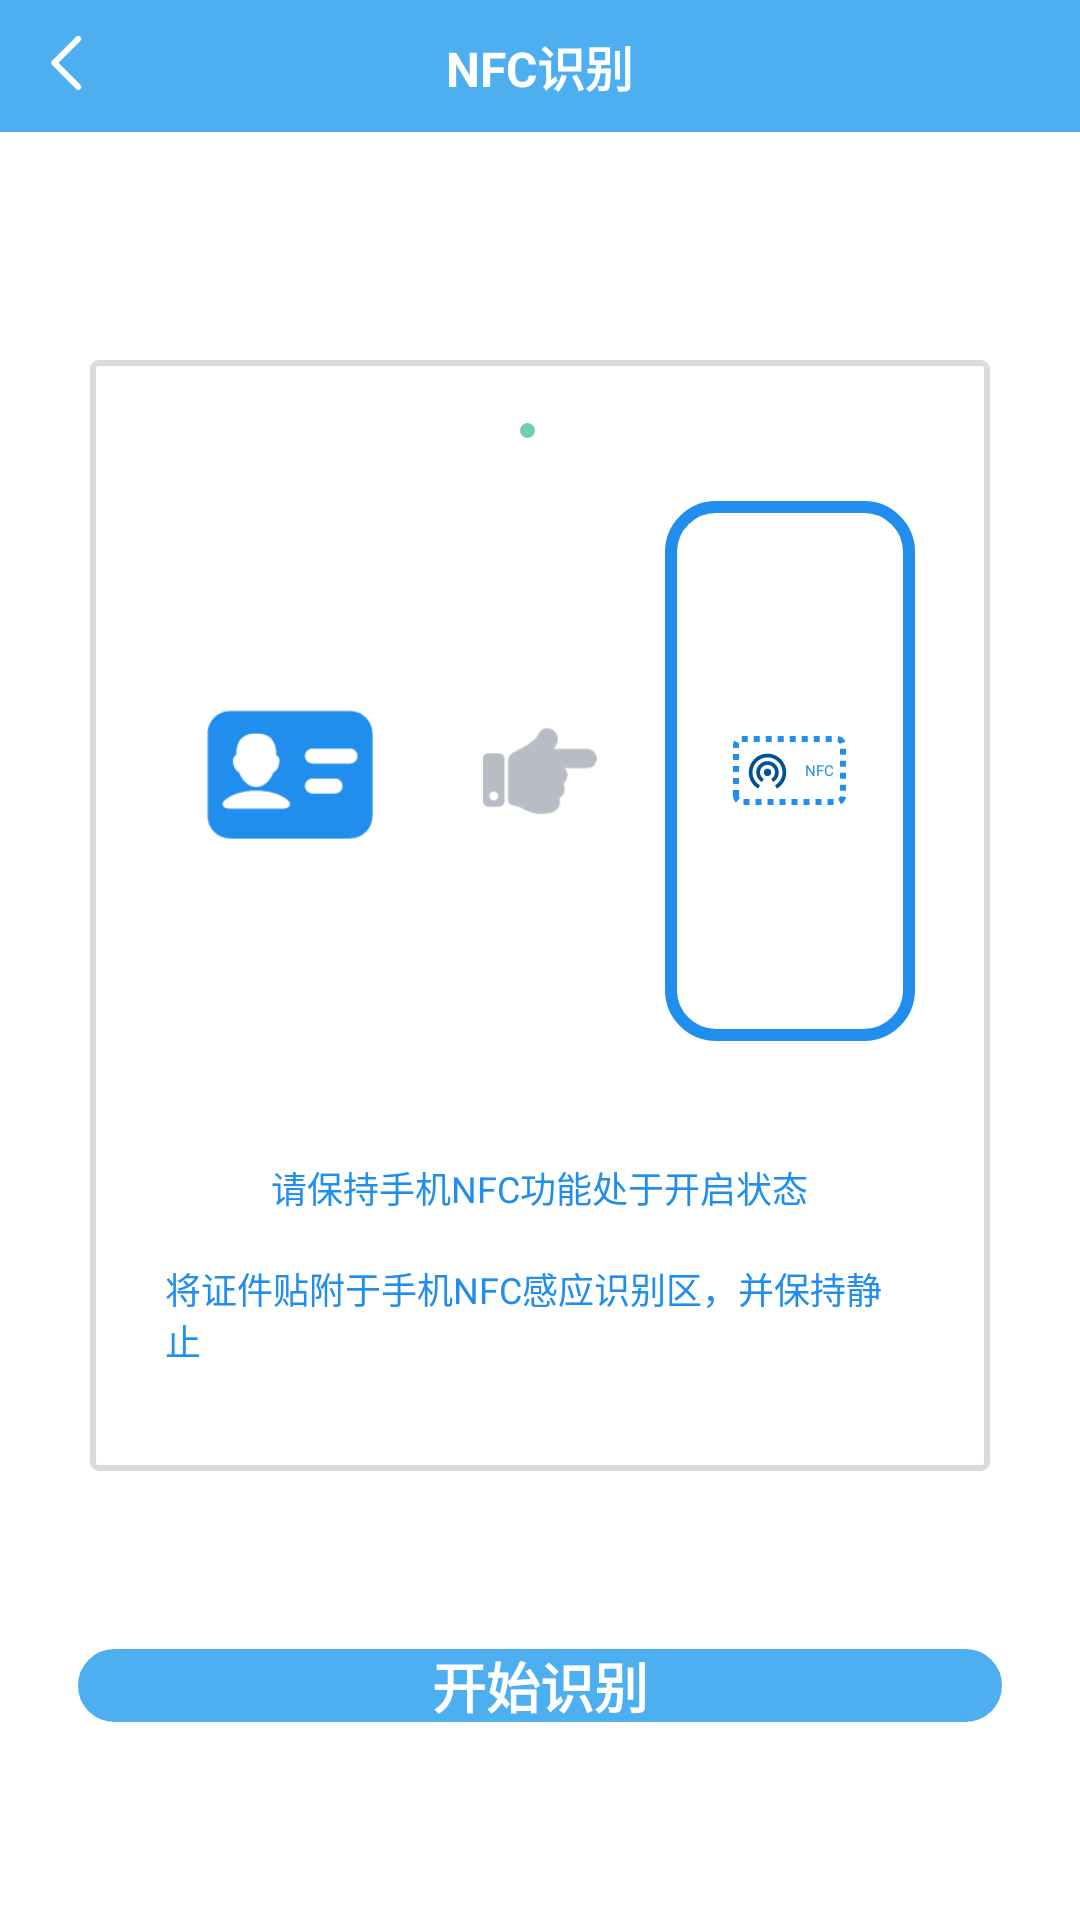

Screen size 1080*1920. Icon name, then its box in pixels as box(x1, y1, x2, y2):
zearrowleft: box(51, 36, 82, 90)
